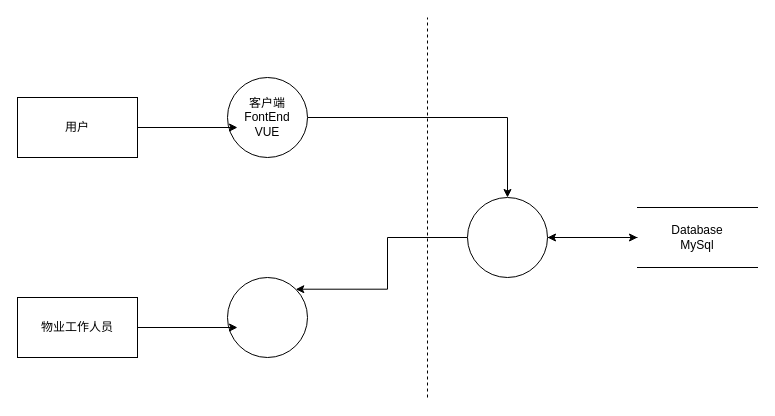
The diagram is 775 pixels wide and 416 high, and some of its shapes have lost their labels. The shapes that lost their labels are listed below. From the top down, each one's box as (x1, y1, x2, y2) in pixels, then its label:
(466, 196, 548, 278): BackEnd SpringBoot
(226, 276, 308, 358): 管理端 FontEnd VUE
